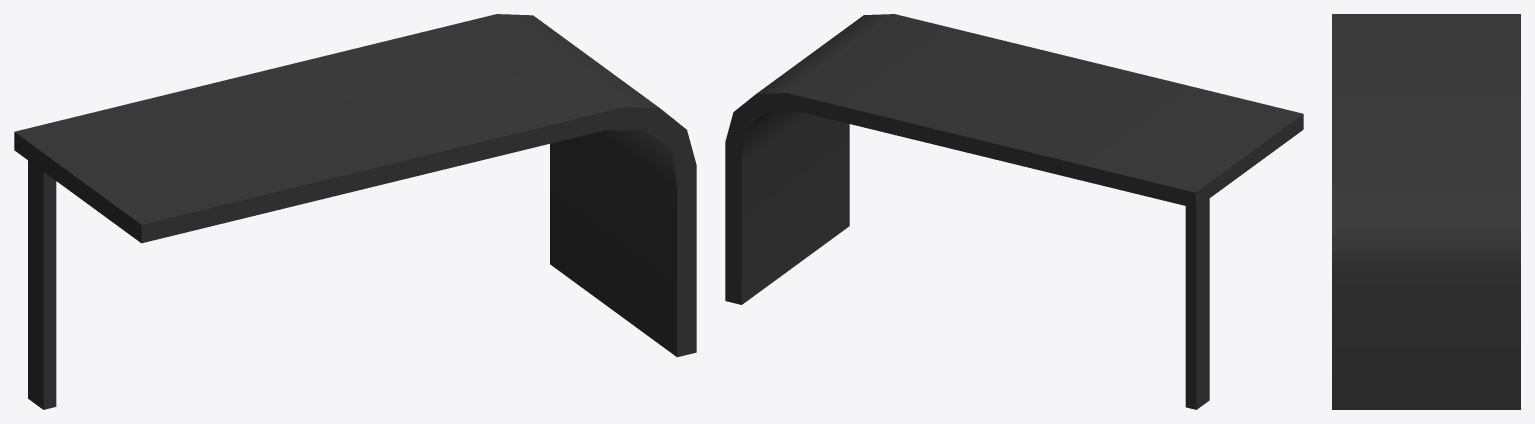
File: Desk_Modern.obj
3 views of the same model, side by side, from view 1: azimuth 30°, elevation 25°; view 2: azimuth 150°, elevation 25°; view 3: azimuth 270°, elevation 25° (orthographic). The views are drawn at different scales.
Parts seen in each view (by area): view 1: Desk_Modern; view 2: Desk_Modern; view 3: Desk_Modern.
Boxes of the visible parts, x1,y1,x2,y2 form: Desk_Modern: [14, 14, 696, 409]; Desk_Modern: [725, 14, 1303, 409]; Desk_Modern: [1332, 14, 1520, 409].
Size of the model in its own units: 2.2 by 0.9955 by 0.8726.
